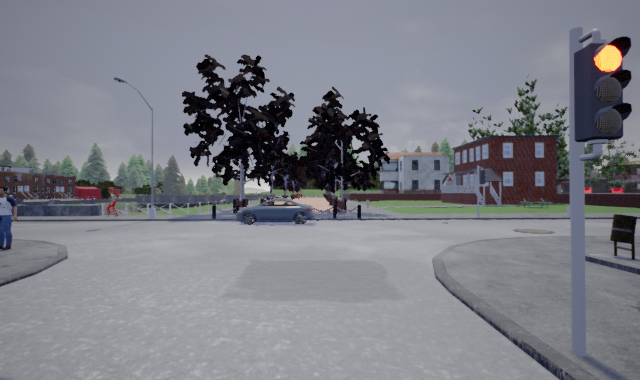pedestrian: (1, 184, 17, 251), (105, 189, 121, 216)
traffic_light: (572, 36, 633, 143)
vehicle: (232, 197, 315, 225)
